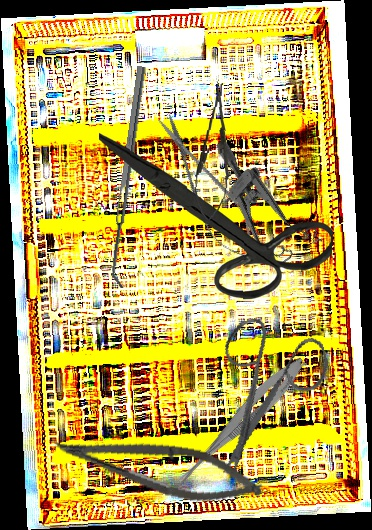Iris Scissors: (96, 129, 335, 303), (184, 302, 352, 481)
Micro Scissor: (170, 351, 311, 496), (145, 105, 267, 270), (47, 426, 268, 513)
Needle Holder: (191, 81, 238, 225)
Spatula Surgical: (106, 65, 155, 289)
Speculum: (183, 138, 332, 277)
